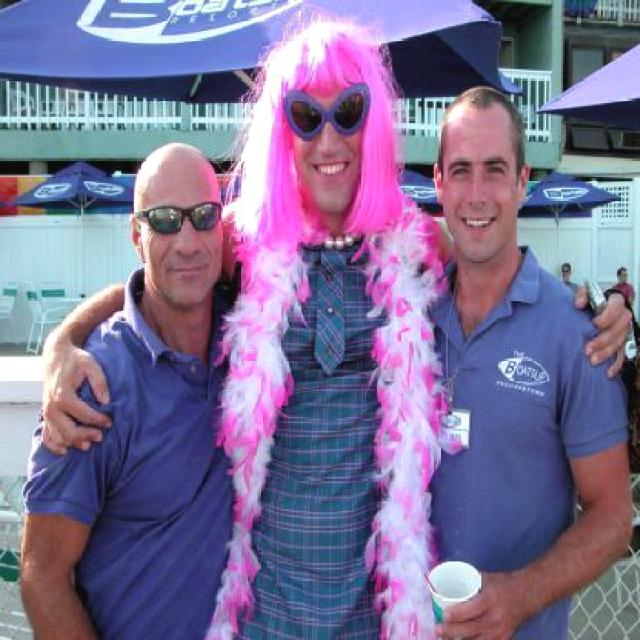face_nomask: (279, 98, 370, 187), (435, 159, 517, 236), (148, 202, 218, 282)
glasses: (281, 84, 370, 139), (137, 199, 223, 236)
hand_noglove: (33, 340, 115, 458), (566, 279, 637, 379), (438, 567, 513, 640)
head_nohelmet: (268, 26, 382, 109), (432, 78, 528, 150), (128, 138, 220, 185)
person: (210, 24, 435, 640), (395, 81, 639, 640), (34, 134, 252, 640)
